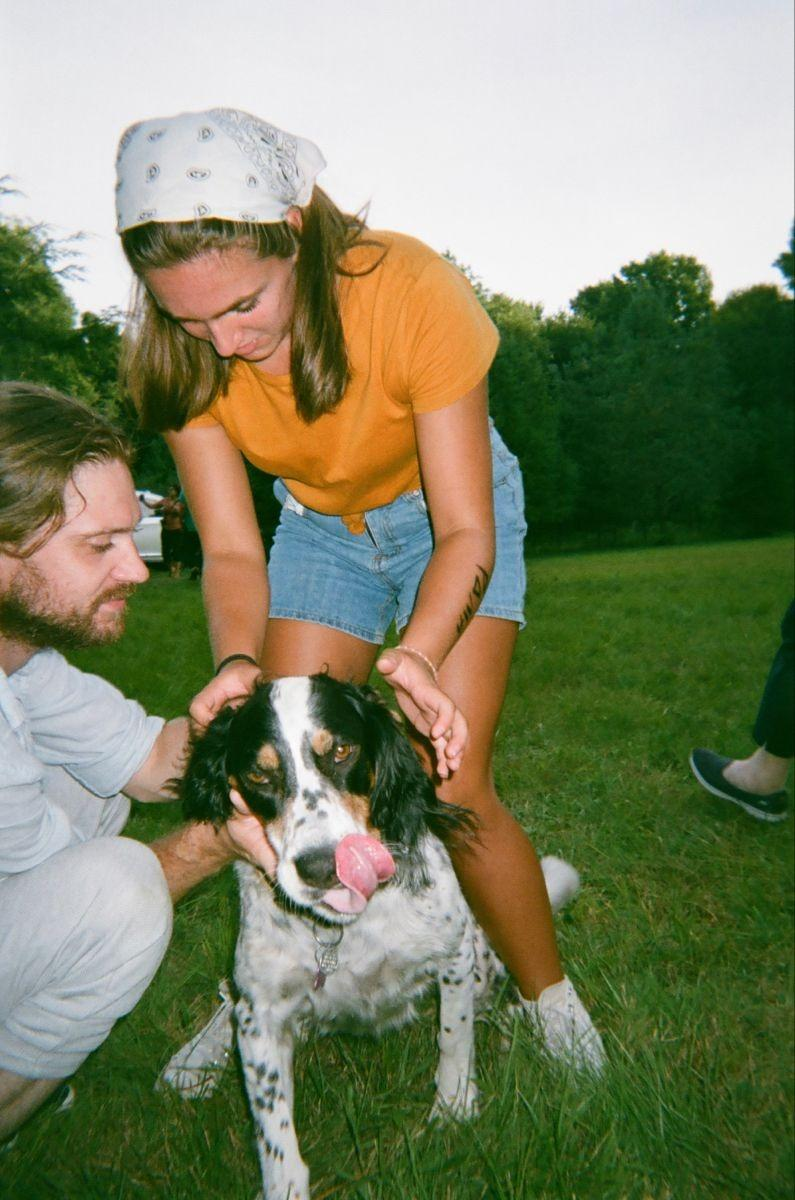adult_dog: (176, 673, 581, 1200)
non-dog: (111, 105, 610, 1101), (0, 385, 281, 1151), (690, 600, 795, 820)
